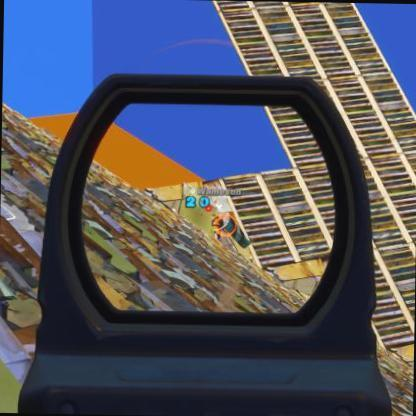person: (212, 208, 236, 243)
